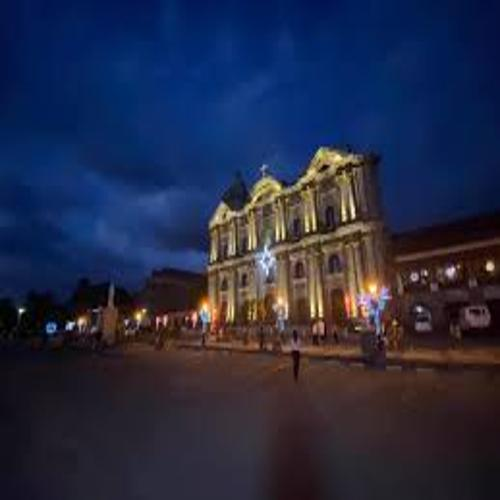Taal Basilica Church: (199, 136, 395, 335)
